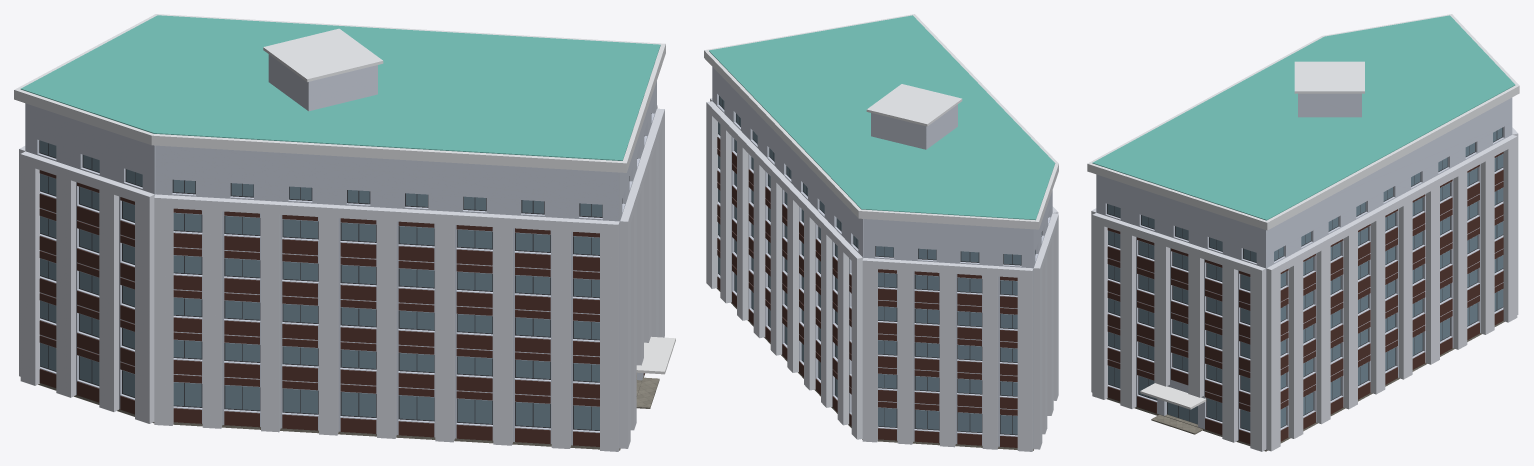
3 views of the same model, side by side, from view 1: azimuth 30°, elevation 25°; view 2: azimuth 150°, elevation 25°; view 3: azimuth 270°, elevation 25° (orthographic). The views are drawn at different scales.
Parts seen in each view (by area): view 1: dining__pier, dining__greenroof, dining__white, dining__spandrel, dining__glass, dining__fascia, dining__darkframe, dining__stone, dining__canopy; view 2: dining__pier, dining__greenroof, dining__white, dining__spandrel, dining__glass, dining__fascia, dining__darkframe, dining__stone; view 3: dining__pier, dining__greenroof, dining__white, dining__spandrel, dining__glass, dining__fascia, dining__darkframe, dining__canopy, dining__stone.
Part boxes in pixels (bbox=[...]): dining__pier: bbox=[19, 105, 664, 451]; dining__greenroof: bbox=[20, 15, 660, 160]; dining__white: bbox=[25, 54, 656, 447]; dining__spandrel: bbox=[39, 170, 644, 446]; dining__glass: bbox=[40, 140, 602, 430]; dining__fascia: bbox=[14, 14, 665, 172]; dining__darkframe: bbox=[39, 113, 651, 430]; dining__stone: bbox=[38, 373, 644, 450]; dining__canopy: bbox=[636, 336, 675, 374]; dining__pier: bbox=[706, 98, 1058, 451]; dining__greenroof: bbox=[709, 15, 1055, 220]; dining__white: bbox=[712, 67, 1052, 448]; dining__spandrel: bbox=[717, 137, 1017, 447]; dining__glass: bbox=[718, 96, 1041, 434]; dining__fascia: bbox=[704, 14, 1058, 229]; dining__darkframe: bbox=[718, 96, 1048, 435]; dining__stone: bbox=[717, 288, 1033, 450]; dining__pier: bbox=[1091, 127, 1518, 451]; dining__greenroof: bbox=[1092, 15, 1515, 220]; dining__white: bbox=[1096, 93, 1512, 448]; dining__spandrel: bbox=[1107, 152, 1503, 443]; dining__glass: bbox=[1107, 128, 1503, 430]; dining__fascia: bbox=[1087, 14, 1519, 230]; dining__darkframe: bbox=[1107, 127, 1503, 430]; dining__canopy: bbox=[1140, 383, 1206, 409]; dining__stone: bbox=[1107, 321, 1504, 451].
Bounding box in the file's own units: 46.42 × 27.01 × 40.62.
Materials: 10 (3 with a texture image).
